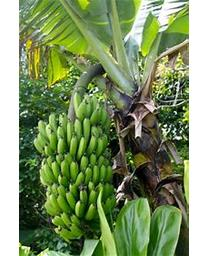banana: (33, 101, 117, 242)
